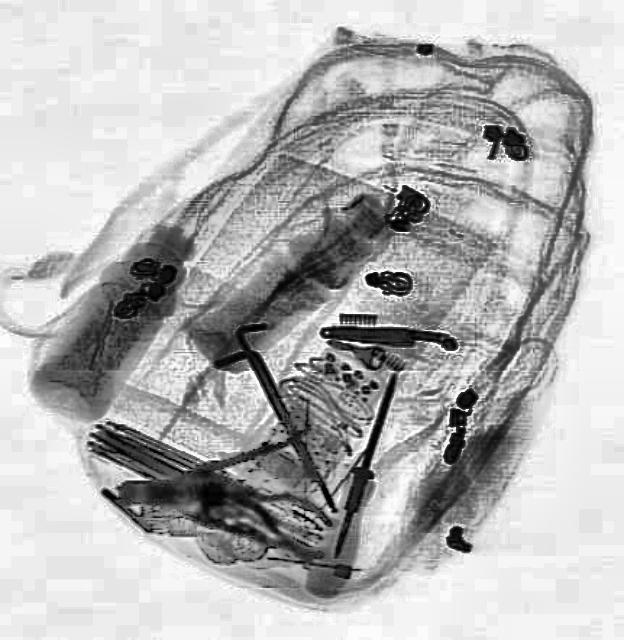Pliers: (210, 464, 344, 564)
